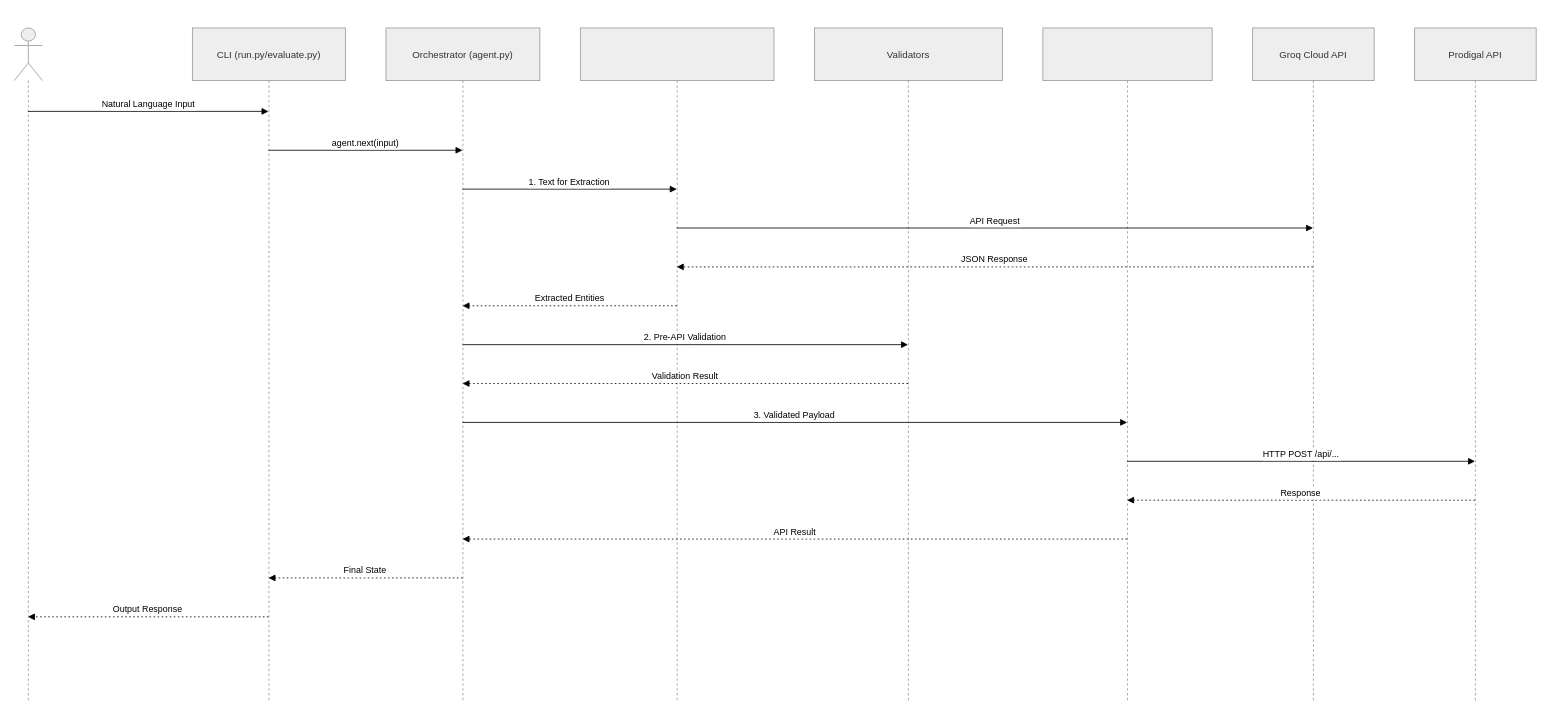
The diagram is 1550 pixels wide and 716 high, and some of its shapes have lost their labels. The shapes that lost their labels are listed below. From the top down, each one's box as (x1, y1, x2, y2) in pixels, then its label:
(13, 27, 43, 702): User
(580, 27, 774, 702): LLM Service
(1042, 27, 1212, 702): API Client (HTTP Wrapper)
